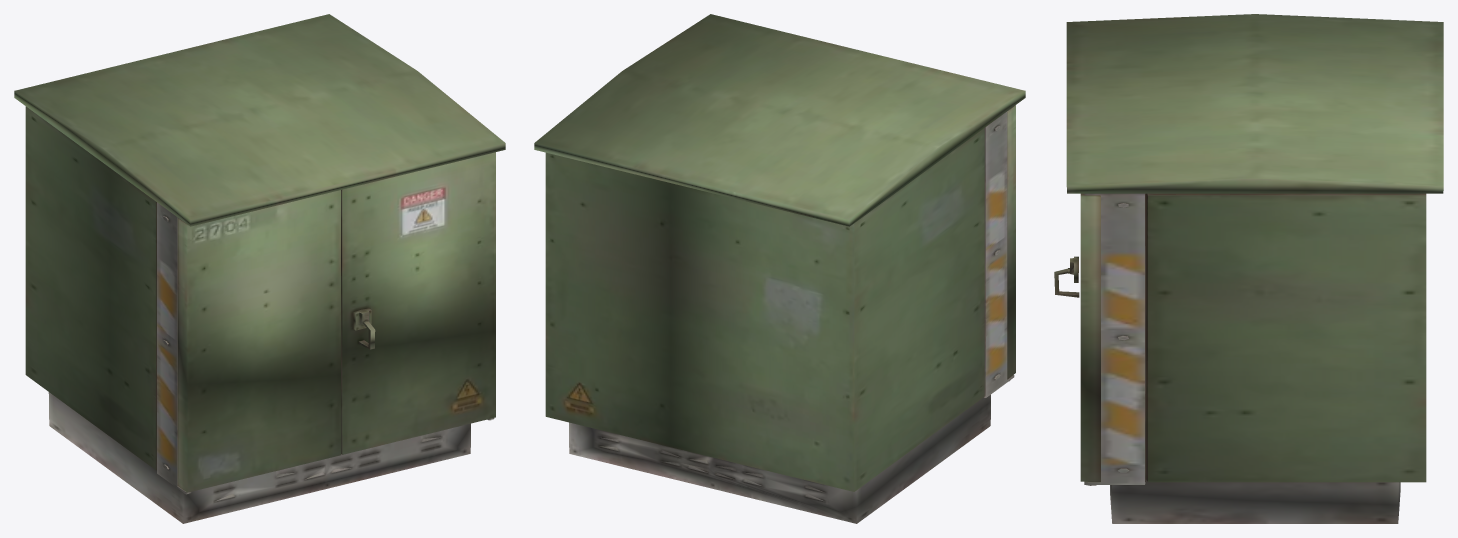
Rendered from terminal.glb.
The picture shows the model from 3 angles, left to right: view 1: azimuth 30°, elevation 25°; view 2: azimuth 150°, elevation 25°; view 3: azimuth 270°, elevation 25°; orthographic projection. The views are drawn at different scales.
Visible parts, largest first — view 1: utility_box_02; view 2: utility_box_02; view 3: utility_box_02.
Part boxes in pixels (box(x1,y1,x2,y2)): utility_box_02: box(14, 14, 505, 523); utility_box_02: box(534, 14, 1025, 523); utility_box_02: box(1054, 14, 1443, 523).
Size of the model in its own units: 1 by 1 by 1.
1 material, 1 textured.
